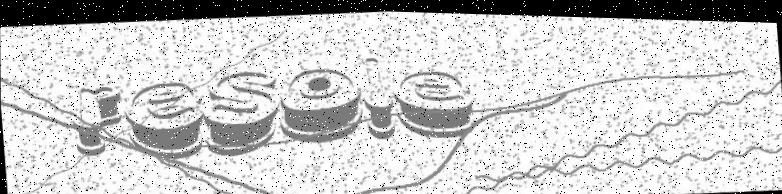e: (394, 61, 486, 147), (121, 77, 207, 162)
l: (358, 50, 402, 144)
o: (273, 60, 369, 154)
r: (70, 82, 125, 157)
s: (202, 66, 289, 169)
